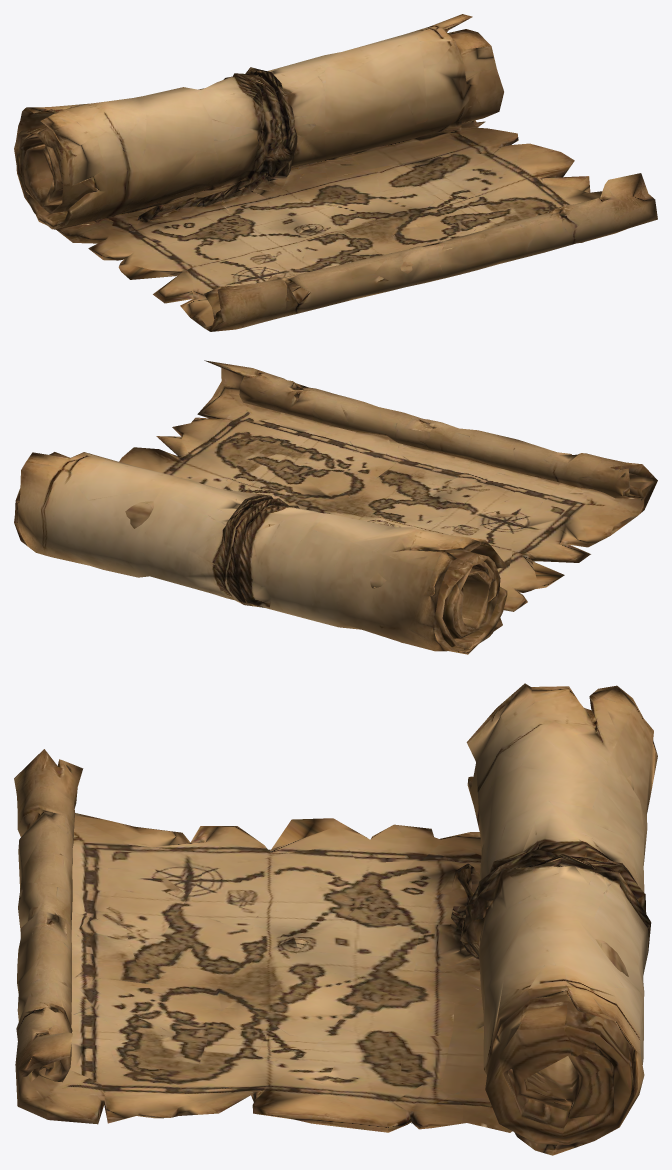
The model's file is dealer_button_lp.glb.
3 renders of one model, top to bottom at view 1: azimuth 30°, elevation 25°; view 2: azimuth 150°, elevation 25°; view 3: azimuth 270°, elevation 25°, orthographic. The views are drawn at different scales.
Bounding box in the file's own units: 1.9 × 0.4397 × 1.6.
1 material, 1 textured.
